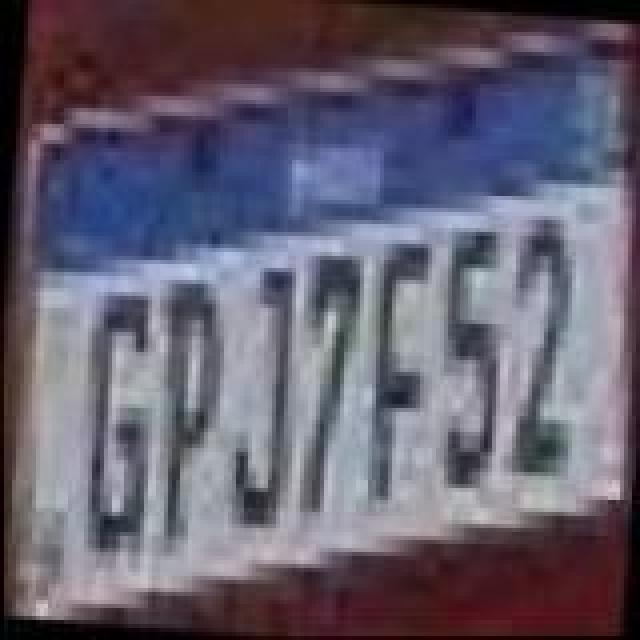2: (490, 210, 586, 486)
5: (422, 218, 514, 502)
7: (286, 246, 362, 526)
F: (350, 226, 434, 510)
G: (64, 278, 164, 562)
J: (218, 250, 310, 534)
P: (136, 272, 228, 548)
